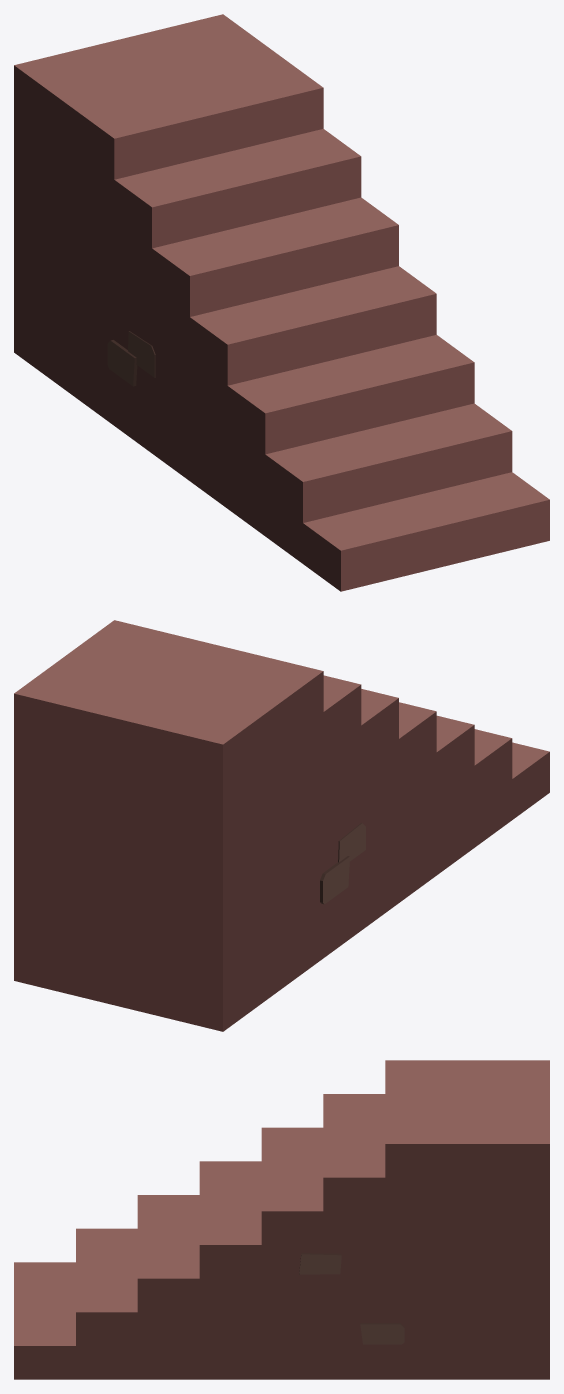
File: TB_D_Bd_Stair_Red.FBX
The picture shows the model from 3 angles, top to bottom: view 1: azimuth 30°, elevation 25°; view 2: azimuth 150°, elevation 25°; view 3: azimuth 270°, elevation 25°; orthographic projection. The views are drawn at different scales.
Visible parts, largest first — view 1: TB_D_Bd_Stair_Red; view 2: TB_D_Bd_Stair_Red; view 3: TB_D_Bd_Stair_Red.
Boxes of the visible parts, <box> form: TB_D_Bd_Stair_Red: <box>14,14,549,591</box>; TB_D_Bd_Stair_Red: <box>14,620,549,1031</box>; TB_D_Bd_Stair_Red: <box>14,1060,549,1379</box>.
Bounding box in the file's own units: 2.06 × 2.62 × 5.41.
